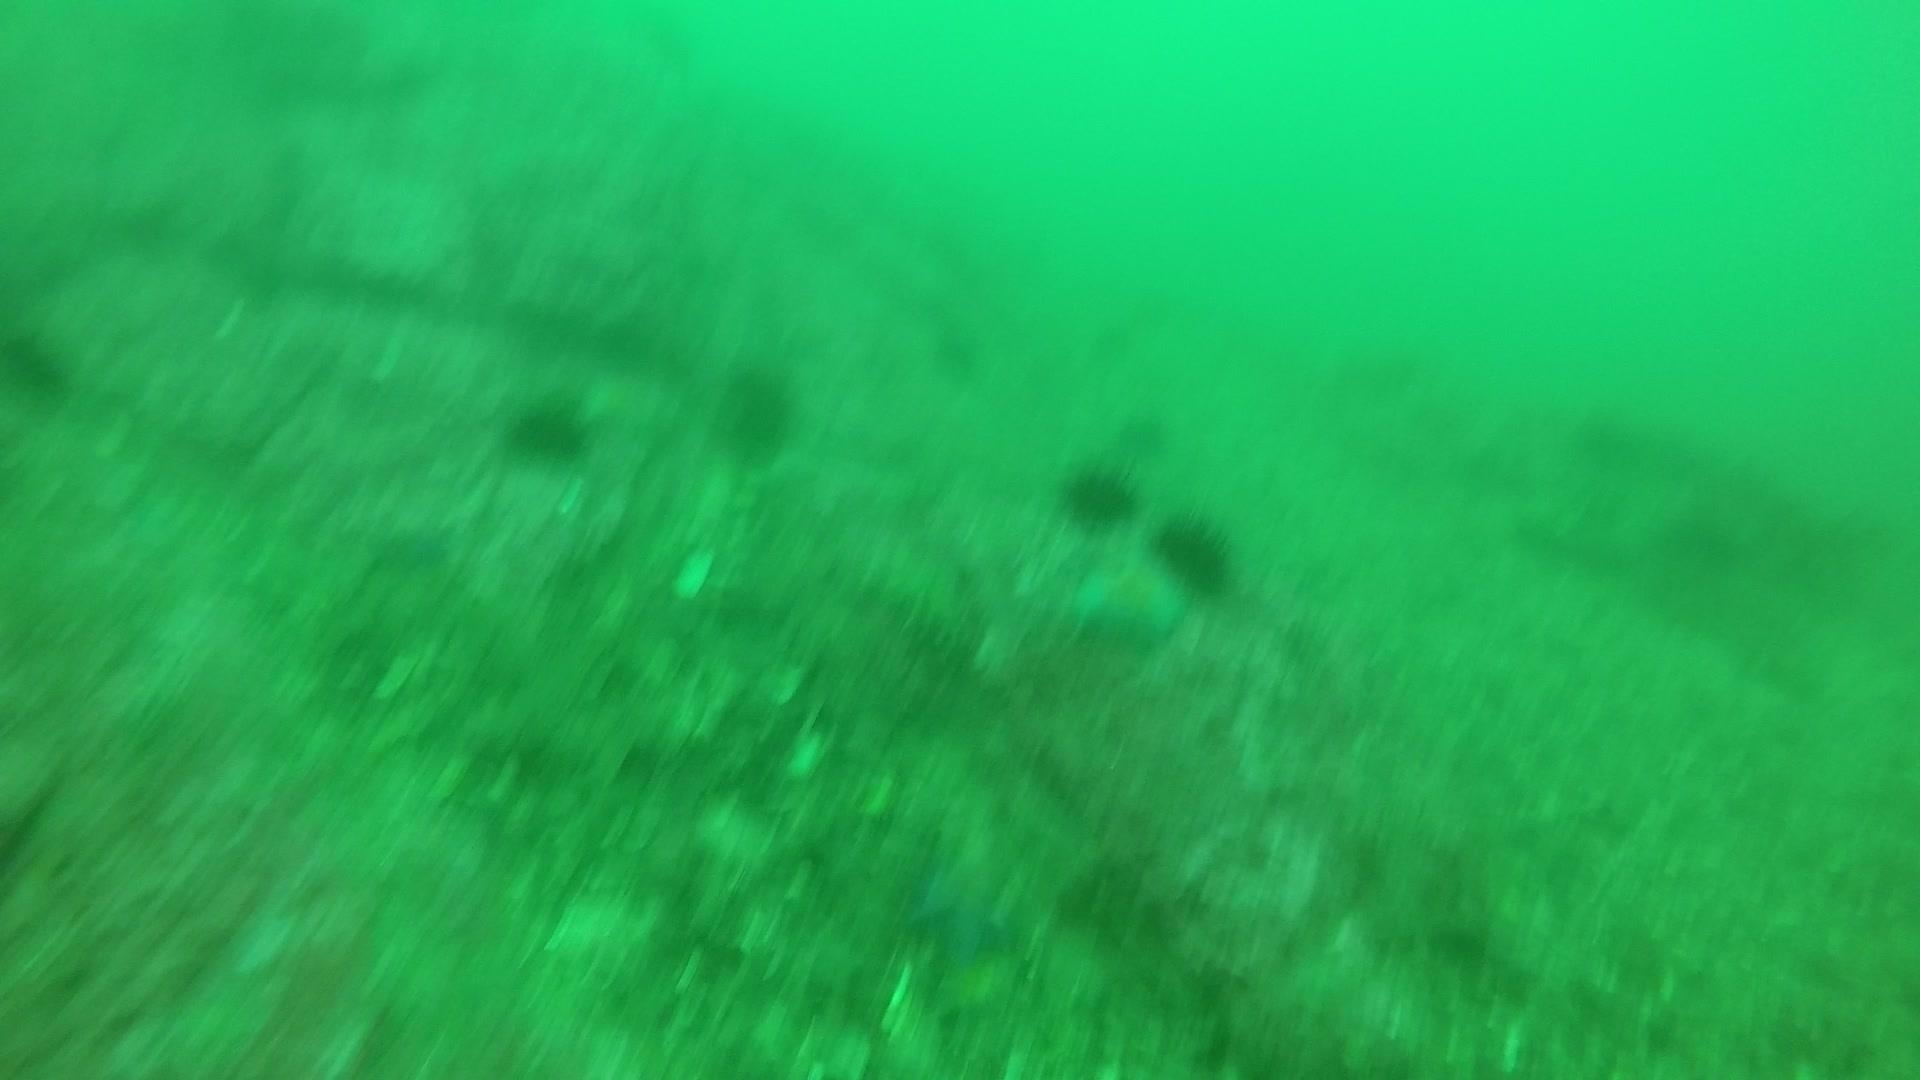echinus: (709, 357, 802, 463), (1149, 508, 1240, 597), (500, 388, 597, 468), (1056, 456, 1141, 531), (1, 320, 76, 404), (1112, 402, 1174, 458)
starfish: (899, 843, 1026, 981), (1065, 550, 1191, 649)
